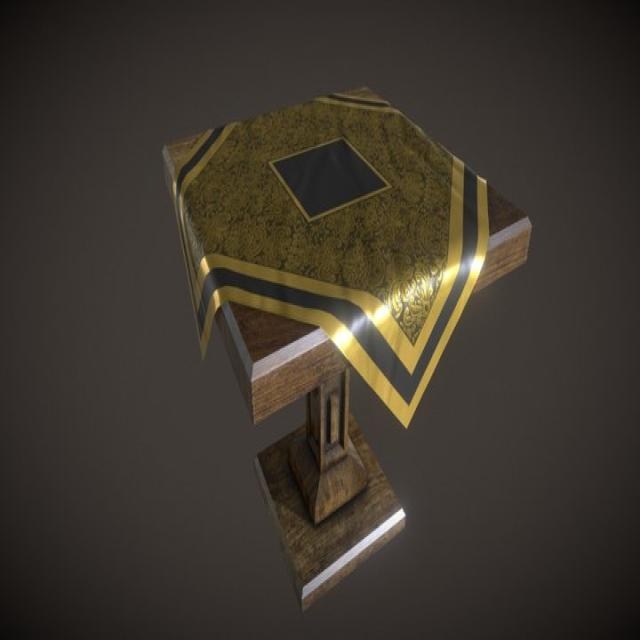table: (160, 85, 532, 613)
